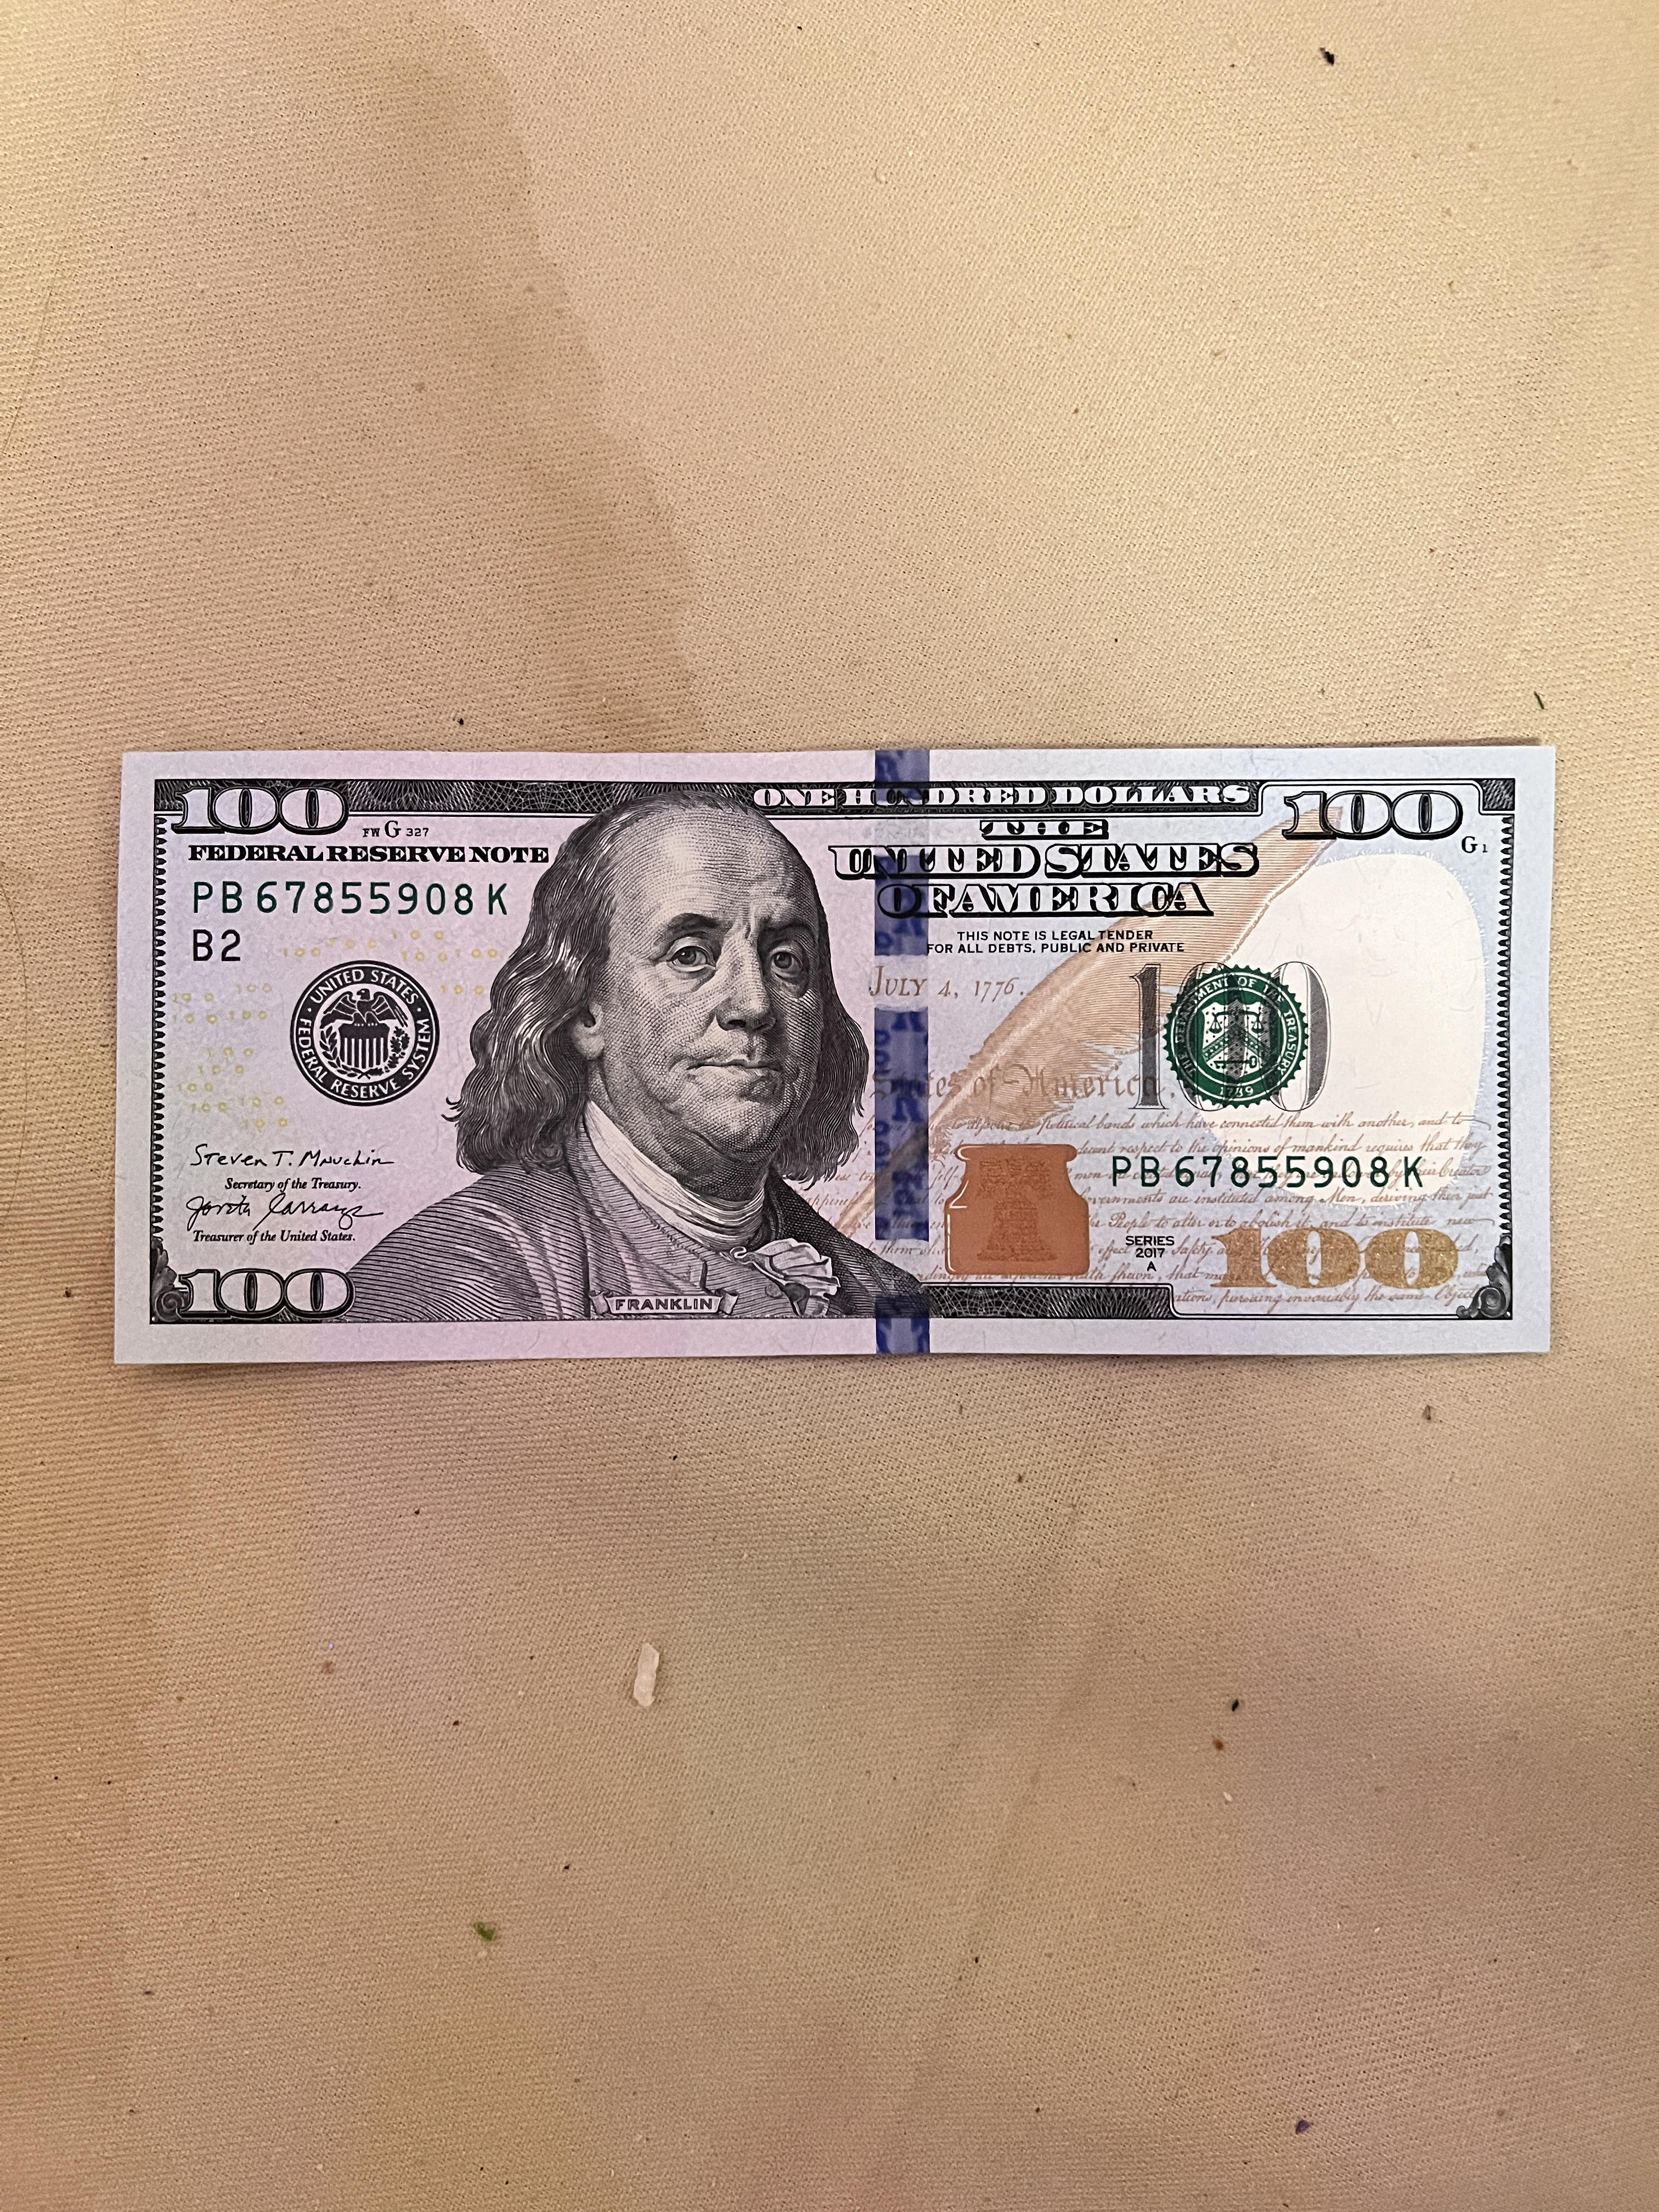HundredBill: (96, 738, 1561, 1366)
